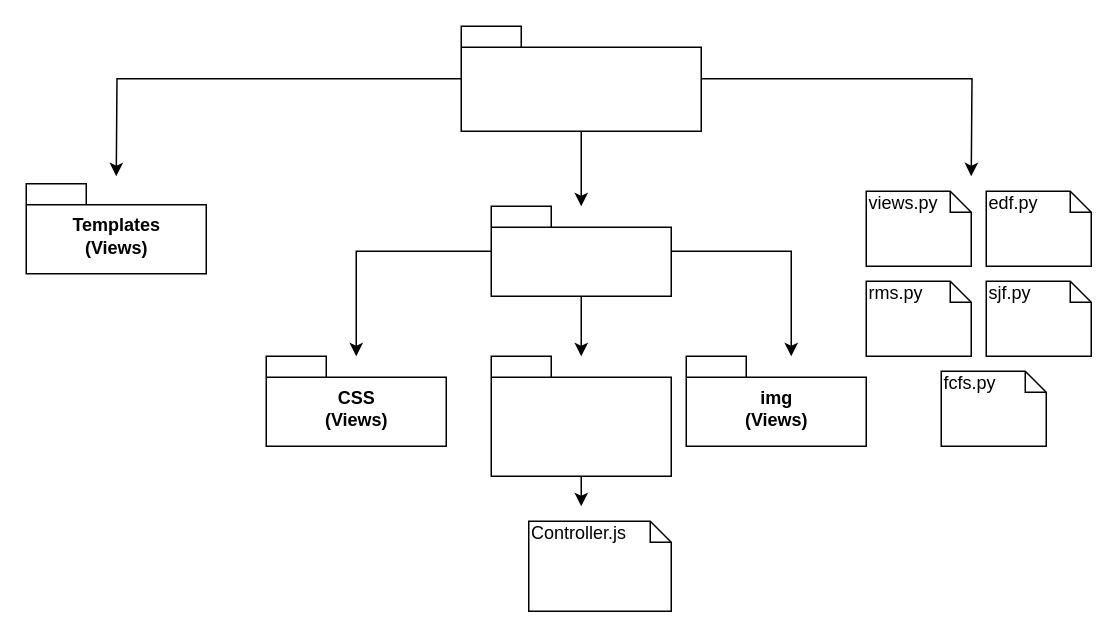
This 1118x638 diagram has some shape labels left out. The centre of each missing label's shape, as x and y in pixels:
"JS (Controller and Views)" belongs at [580,415].
"Scheduling Simulator App" belongs at [580,78].
"Static" belongs at [580,250].
